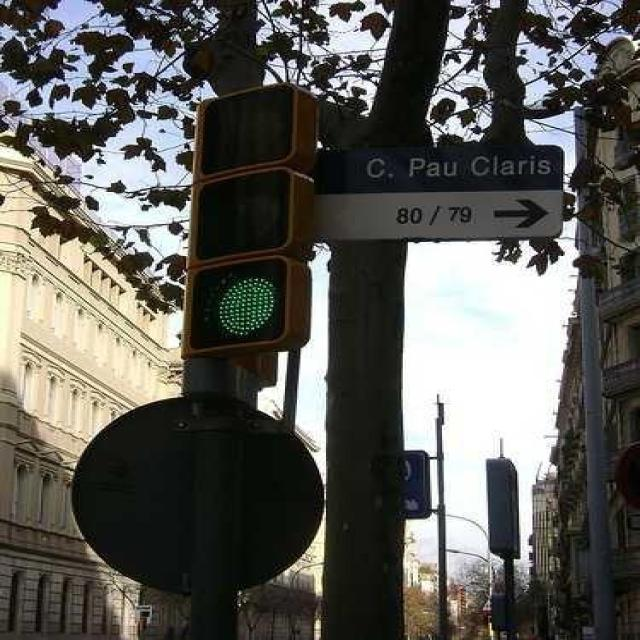Traffic Light -Green-: (189, 84, 314, 358)
